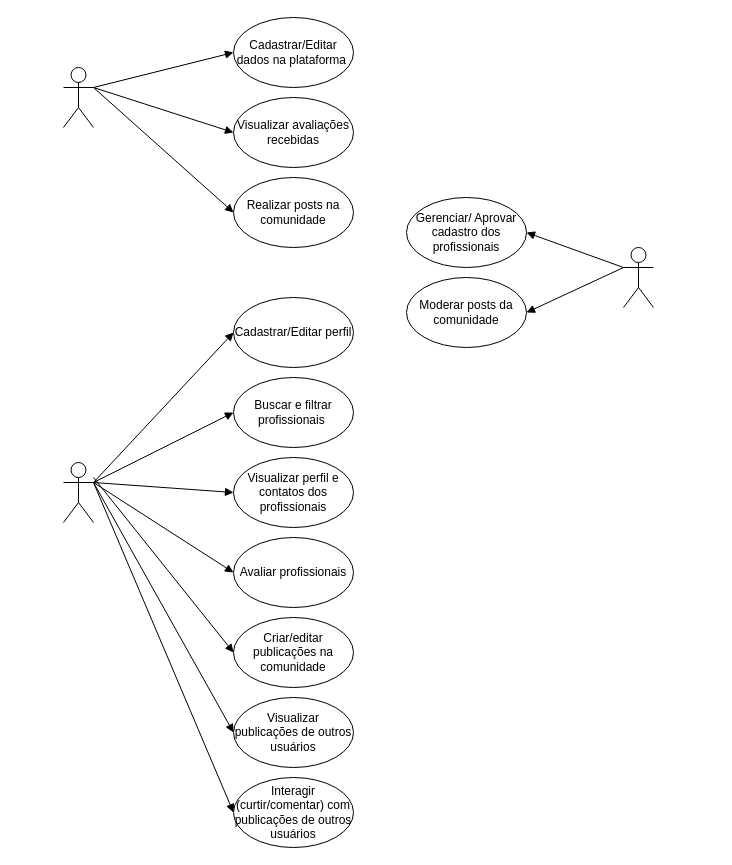
The diagram is 732 pixels wide and 865 high, and some of its shapes have lost their labels. The centre of each missing label's shape, as x and y in pixels:
Administrador da Plataforma: (x=638, y=277)
Profissional Parceiro: (x=78, y=97)
Usuário da Plataforma: (x=78, y=492)
